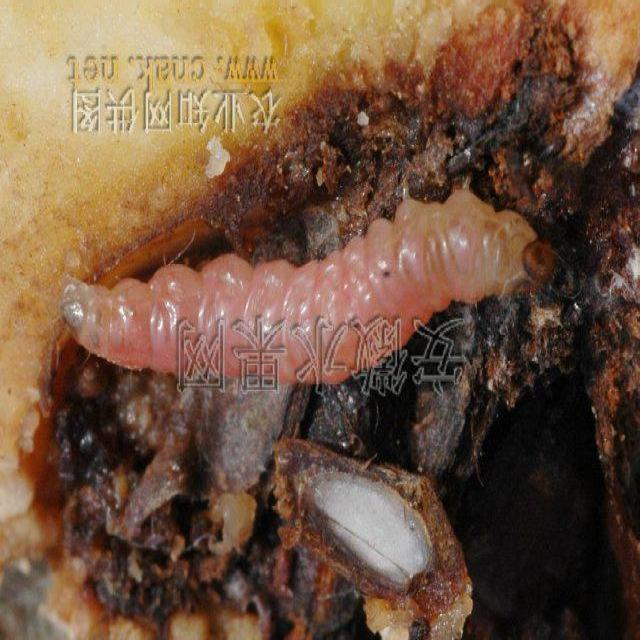peach borer: (56, 185, 554, 400)
